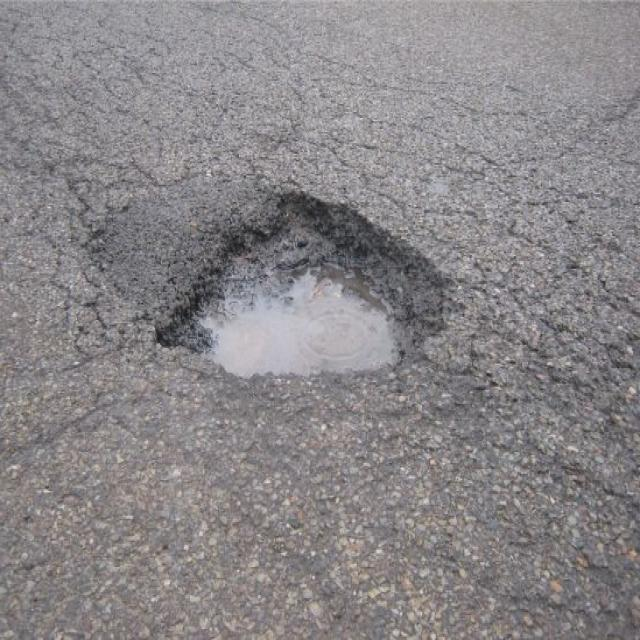pothole: (152, 182, 464, 374)
